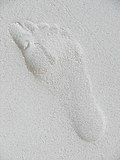human_footprint: (9, 20, 105, 141)
